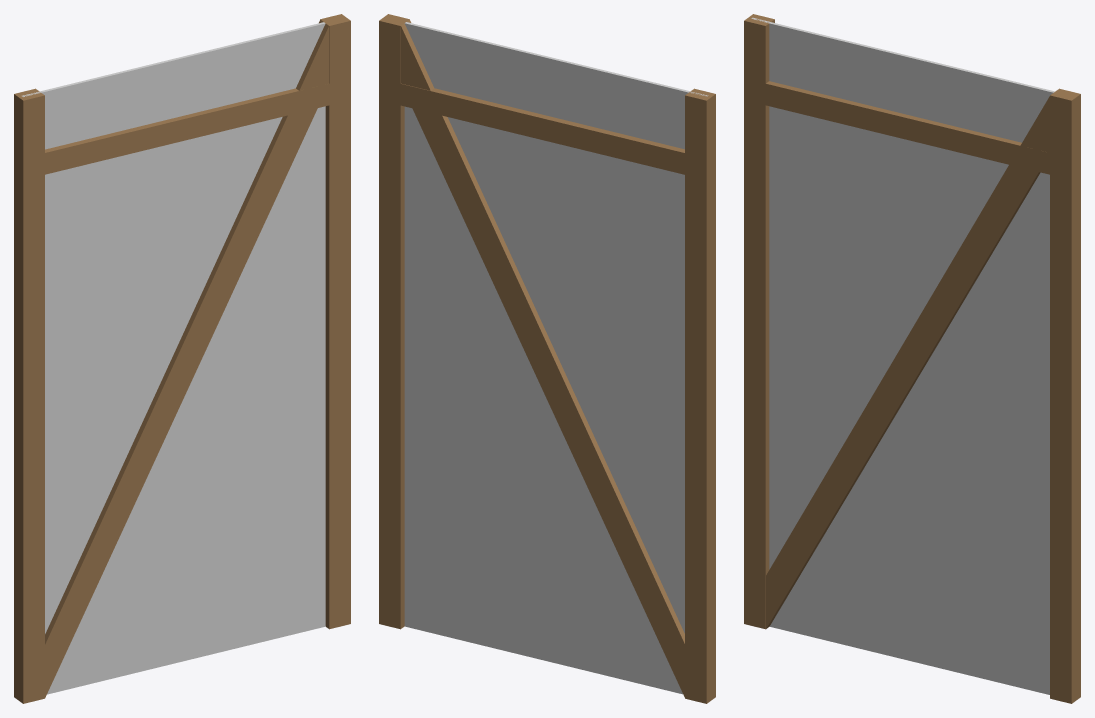
File: mod_paredEsqina.fbx
3 views of the same model, side by side, from view 1: azimuth 30°, elevation 25°; view 2: azimuth 150°, elevation 25°; view 3: azimuth 330°, elevation 25° (orthographic).
Visible parts, largest first — view 1: ParedBordes; view 2: ParedBordes; view 3: ParedBordes.
Boxes of the visible parts, bbox=[...] form: ParedBordes: bbox=[14, 14, 350, 703]; ParedBordes: bbox=[379, 14, 715, 703]; ParedBordes: bbox=[744, 14, 1080, 703].
Size of the model in its own units: 135 by 238 by 6.6.
